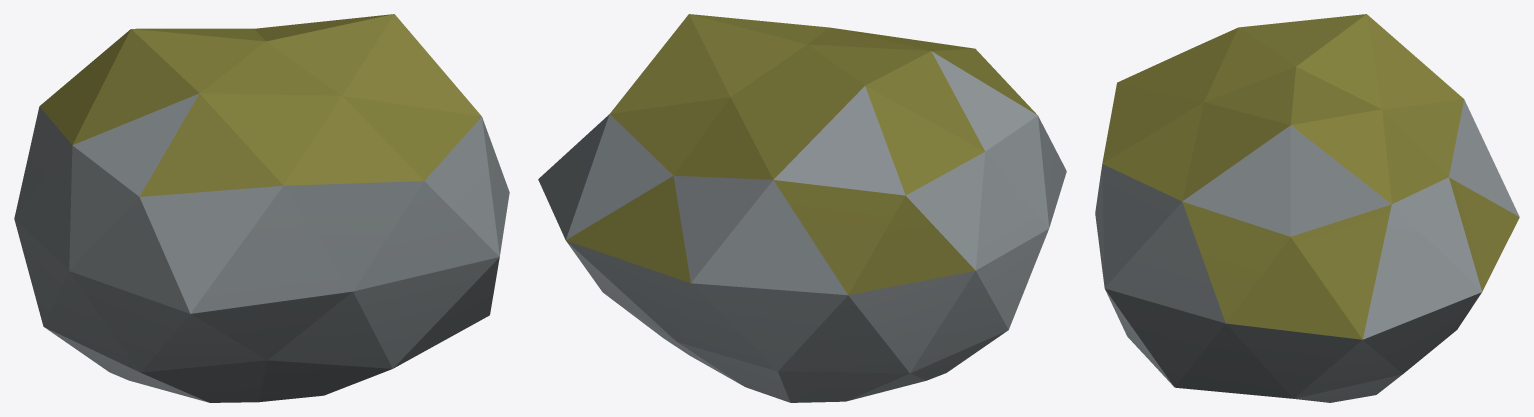
The model's file is rock_mossy_a_low.glb.
3 renders of one model, left to right at view 1: azimuth 30°, elevation 25°; view 2: azimuth 150°, elevation 25°; view 3: azimuth 270°, elevation 25°, orthographic. The views are drawn at different scales.
Size of the model in its own units: 2.06 by 1.3 by 1.73.
